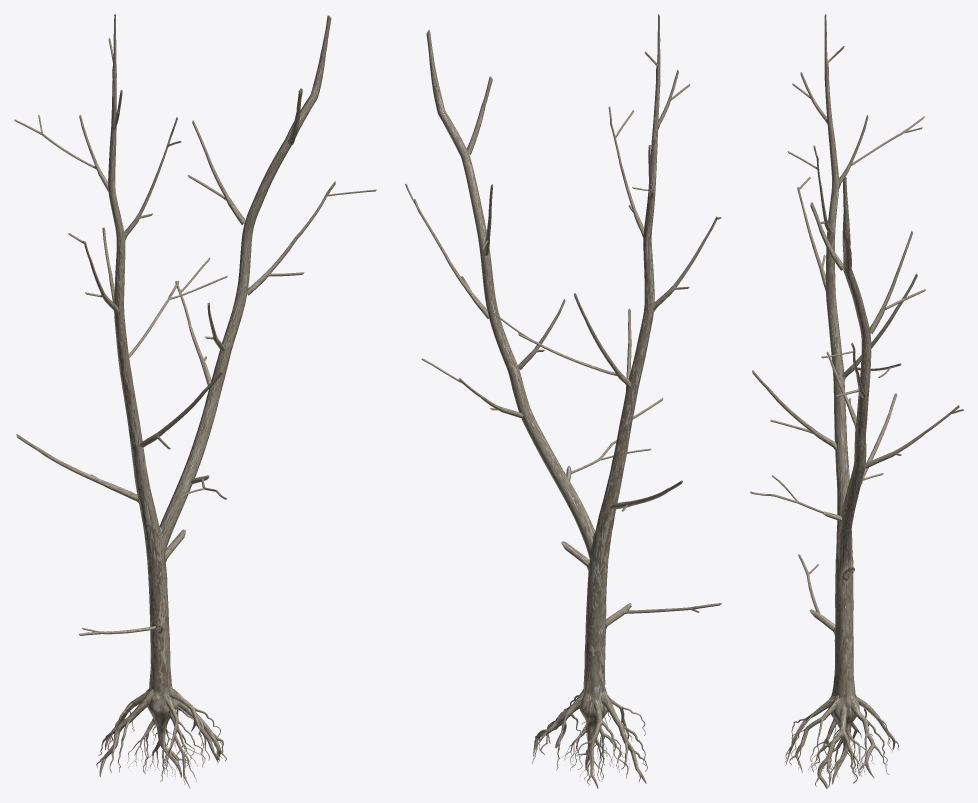
File: trees-2-txt.glb
3 views of the same model, side by side, from view 1: azimuth 30°, elevation 25°; view 2: azimuth 150°, elevation 25°; view 3: azimuth 270°, elevation 25° (orthographic). The views are drawn at different scales.
Visible parts, largest first — view 1: Quercus_rubra_HD; view 2: Quercus_rubra_HD; view 3: Quercus_rubra_HD.
Boxes of the visible parts, bbox=[...] form: Quercus_rubra_HD: bbox=[14, 14, 376, 788]; Quercus_rubra_HD: bbox=[405, 14, 721, 788]; Quercus_rubra_HD: bbox=[750, 14, 963, 788].
Size of the model in its own units: 1.6 by 3.73 by 0.9785.
Materials: 1 (1 with a texture image).
